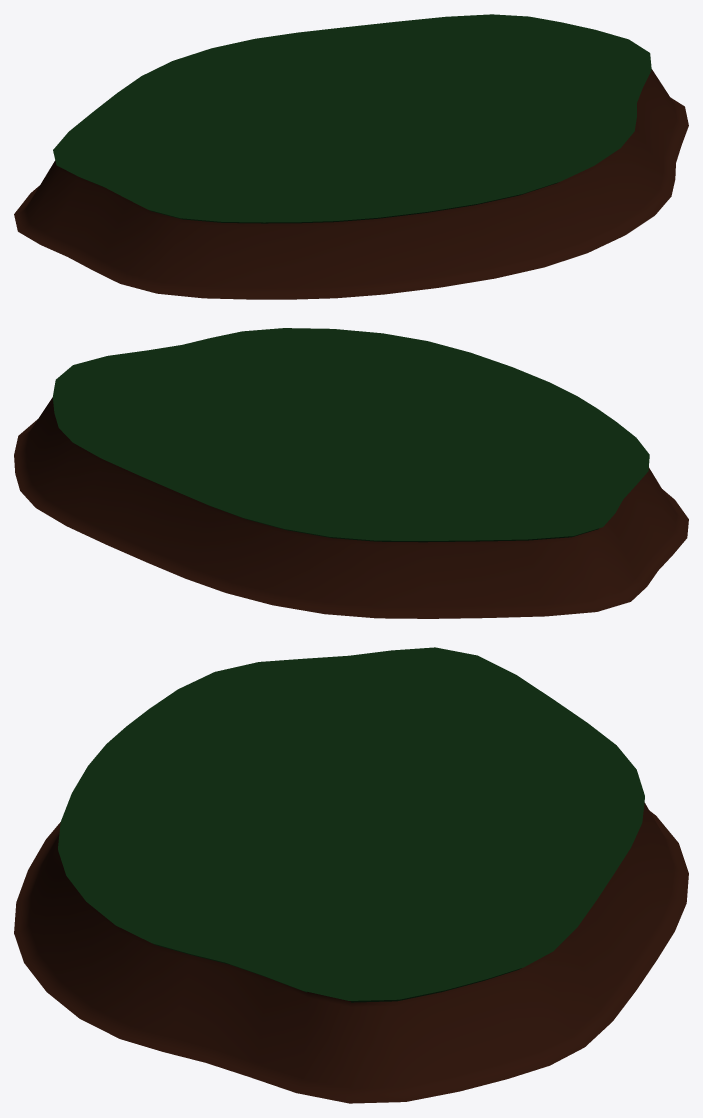
Rendered from isla.obj.
3 renders of one model, top to bottom at view 1: azimuth 30°, elevation 25°; view 2: azimuth 150°, elevation 25°; view 3: azimuth 270°, elevation 25°, orthographic. The views are drawn at different scales.
Visible parts, largest first — view 1: isla; view 2: isla; view 3: isla.
Boxes of the visible parts, left/top/right/bottom form: isla: left=14, top=14, right=688, bottom=299; isla: left=14, top=328, right=688, bottom=618; isla: left=14, top=647, right=688, bottom=1103.
Bounding box in the file's own units: 7.19 × 0.68 × 5.17.
